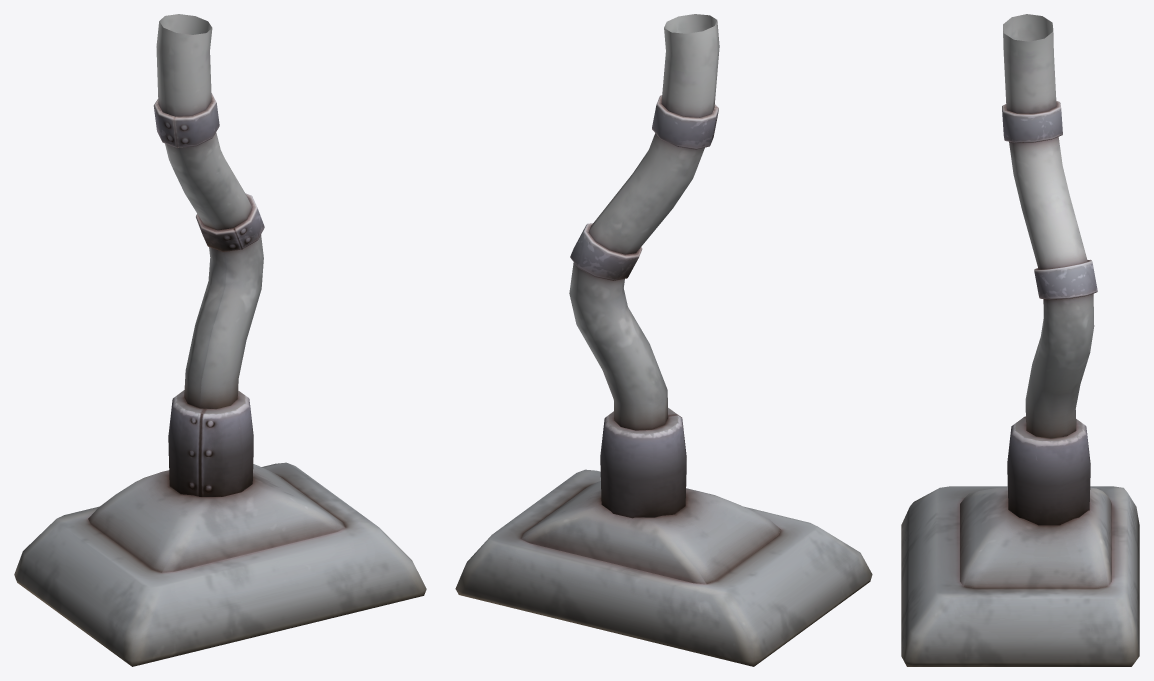
The model's file is KitchenHood01.FBX.
3 views of the same model, side by side, from view 1: azimuth 30°, elevation 25°; view 2: azimuth 150°, elevation 25°; view 3: azimuth 270°, elevation 25° (orthographic). The views are drawn at different scales.
Visible parts, largest first — view 1: KitchenHood01; view 2: KitchenHood01; view 3: KitchenHood01.
Boxes of the visible parts, left/top/right/bottom form: KitchenHood01: left=14, top=14, right=426, bottom=666; KitchenHood01: left=455, top=14, right=872, bottom=666; KitchenHood01: left=901, top=14, right=1139, bottom=666.
Size of what is drawn, in the model's own units: 0.9727 by 1.76 by 0.6822.
